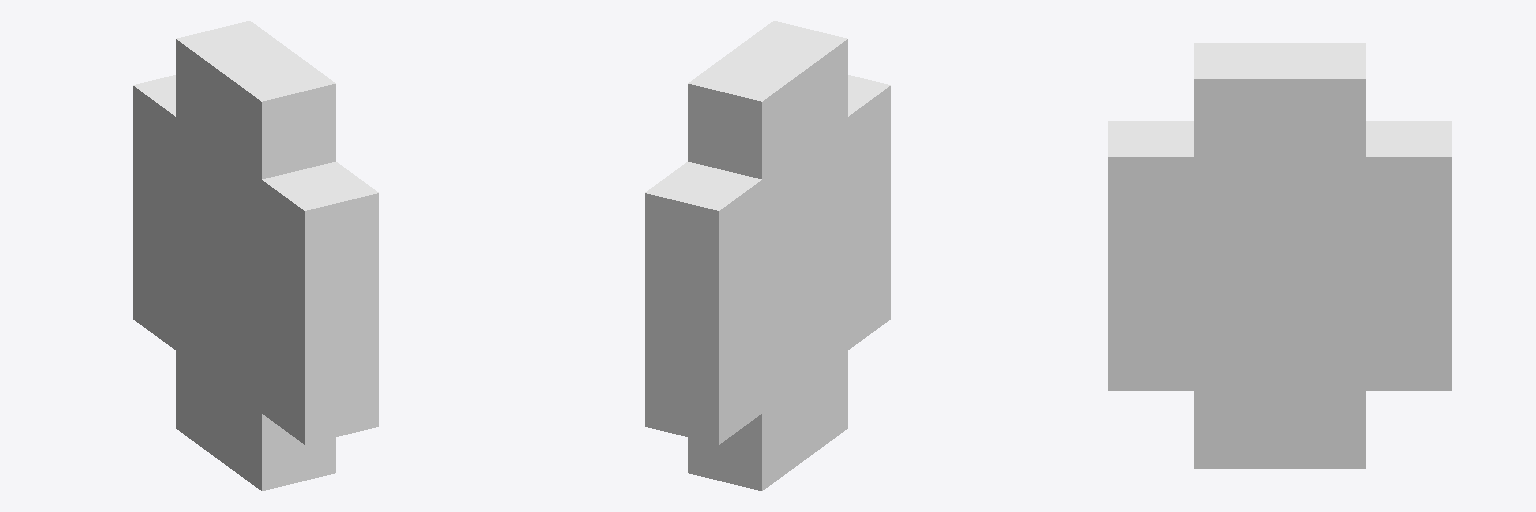
The model's file is MiniCoin.obj.
The picture shows the model from 3 angles: view 1: azimuth 30°, elevation 25°; view 2: azimuth 150°, elevation 25°; view 3: azimuth 270°, elevation 25°; orthographic projection.
Visible parts, largest first — view 1: object 1; view 2: object 1; view 3: object 1.
Boxes of the visible parts, x1=… form: object 1: x1=133, y1=21, x2=378, y2=490; object 1: x1=645, y1=21, x2=890, y2=490; object 1: x1=1108, y1=43, x2=1451, y2=468.
Size of the model in its own units: 0.1 by 0.5 by 0.4.